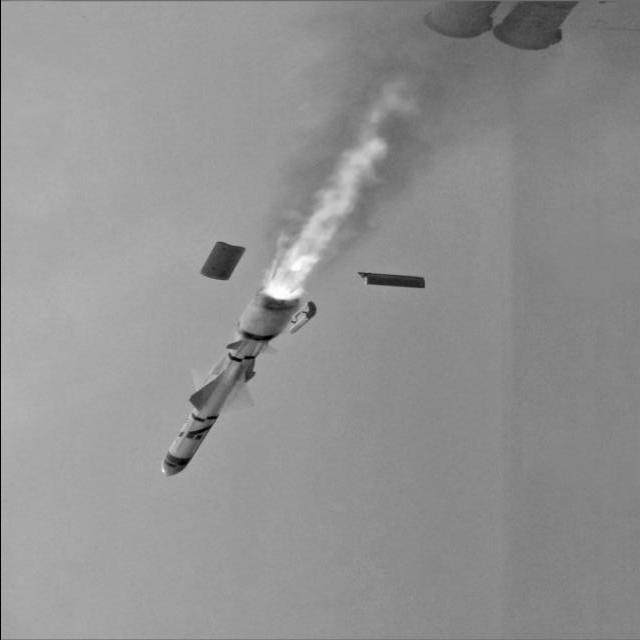missile: (143, 272, 318, 481)
